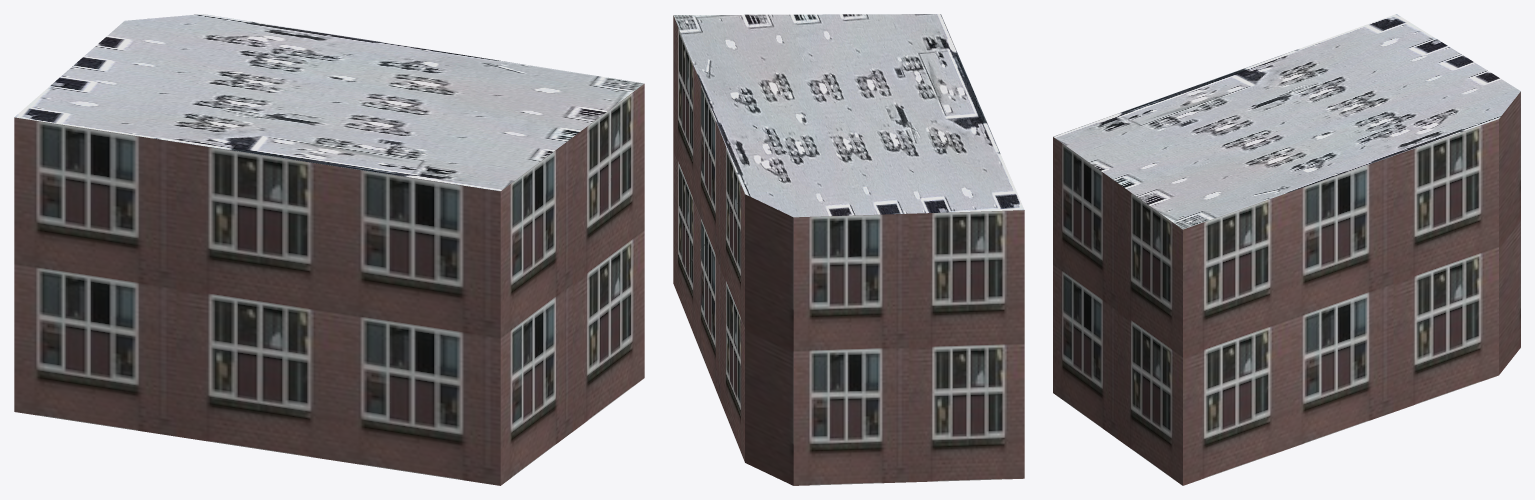
File: ResTex__1544.fbx
3 views of the same model, side by side, from view 1: azimuth 30°, elevation 25°; view 2: azimuth 150°, elevation 25°; view 3: azimuth 270°, elevation 25° (orthographic). The views are drawn at different scales.
Visible parts, largest first — view 1: CityEngineMaterial_12_m, CityEngineMaterial_m; view 2: CityEngineMaterial_12_m, CityEngineMaterial_m; view 3: CityEngineMaterial_12_m, CityEngineMaterial_m.
Part boxes in pixels (x1,y1,x2,y2): CityEngineMaterial_12_m: [14, 84, 644, 485]; CityEngineMaterial_m: [14, 14, 644, 191]; CityEngineMaterial_12_m: [673, 15, 1024, 485]; CityEngineMaterial_m: [673, 14, 1024, 217]; CityEngineMaterial_12_m: [1053, 91, 1520, 485]; CityEngineMaterial_m: [1053, 14, 1520, 229].
Size of the model in its own units: 10.82 by 6 by 9.93.
2 materials, 2 textured.
